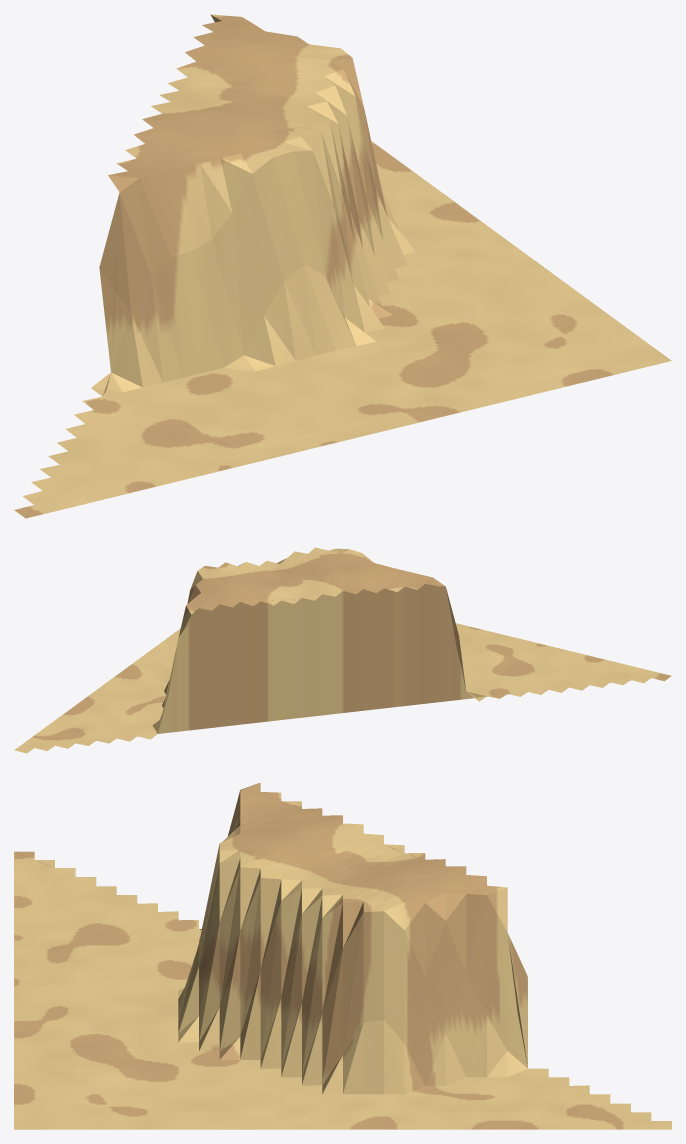
Rendered from Desert_Mountains_12_NE.obj.
3 renders of one model, top to bottom at view 1: azimuth 30°, elevation 25°; view 2: azimuth 150°, elevation 25°; view 3: azimuth 270°, elevation 25°, orthographic. The views are drawn at different scales.
Bounding box in the file's own units: 10 × 2.83 × 10.
Materials: 1 (1 with a texture image).
